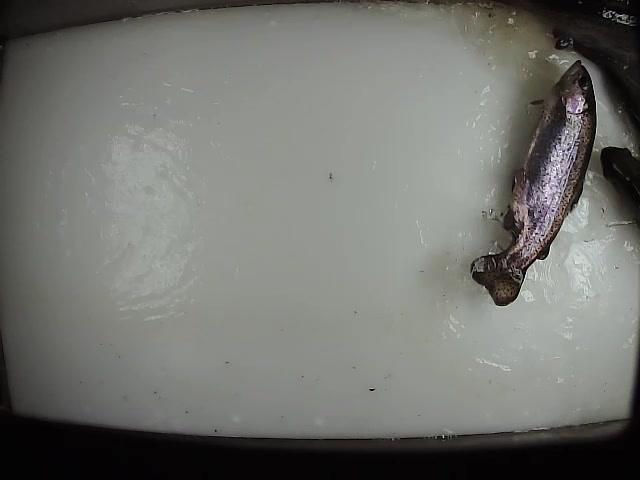fish: (467, 55, 599, 309)
